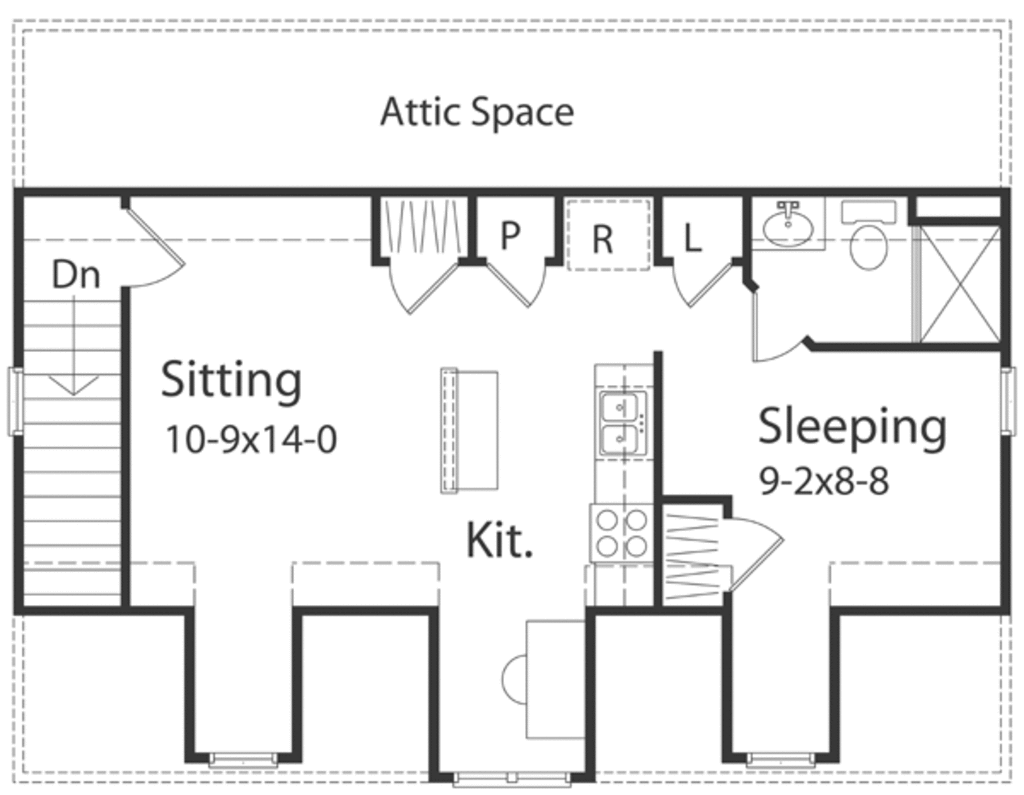door: (101, 204, 197, 293), (743, 278, 817, 365), (380, 250, 462, 318), (485, 250, 552, 312), (729, 519, 783, 593), (664, 261, 734, 312)
large_sink: (832, 197, 894, 269)
small_sink: (762, 197, 815, 253)
stairs: (23, 278, 150, 604)
twin_sink: (598, 386, 640, 451)
window: (449, 753, 596, 793), (196, 745, 291, 776), (744, 744, 822, 774), (1001, 370, 1017, 446)
